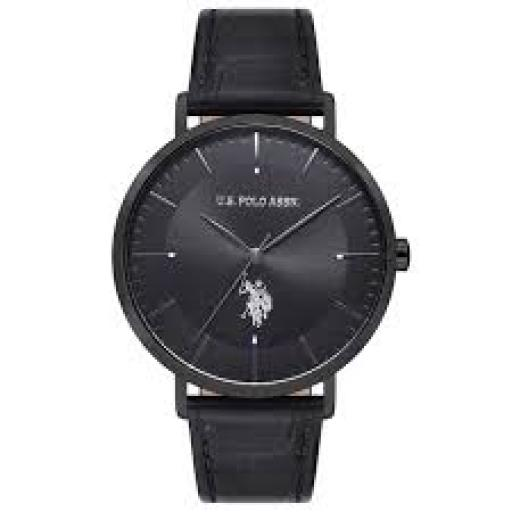KolSaati: (112, 1, 416, 512)
